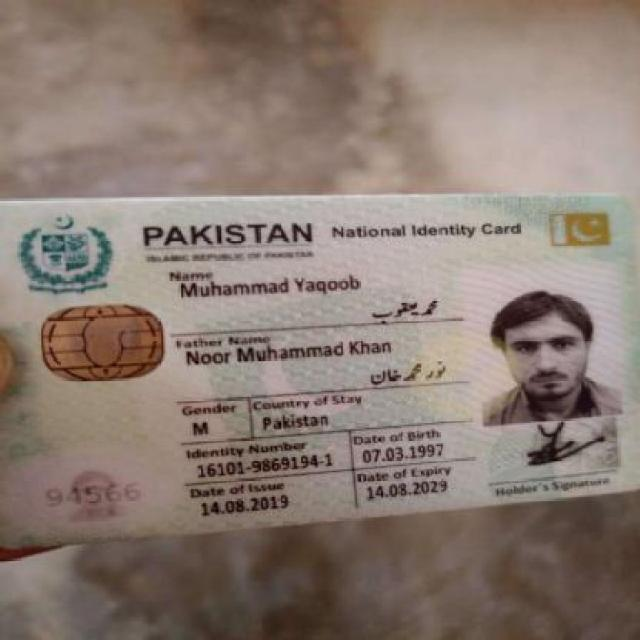Front: (5, 188, 637, 515)
